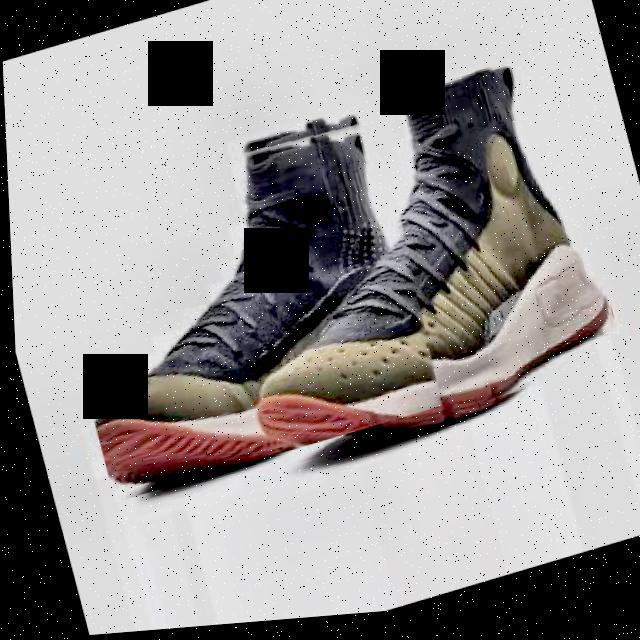shoe: (192, 55, 626, 478), (33, 106, 451, 508)
